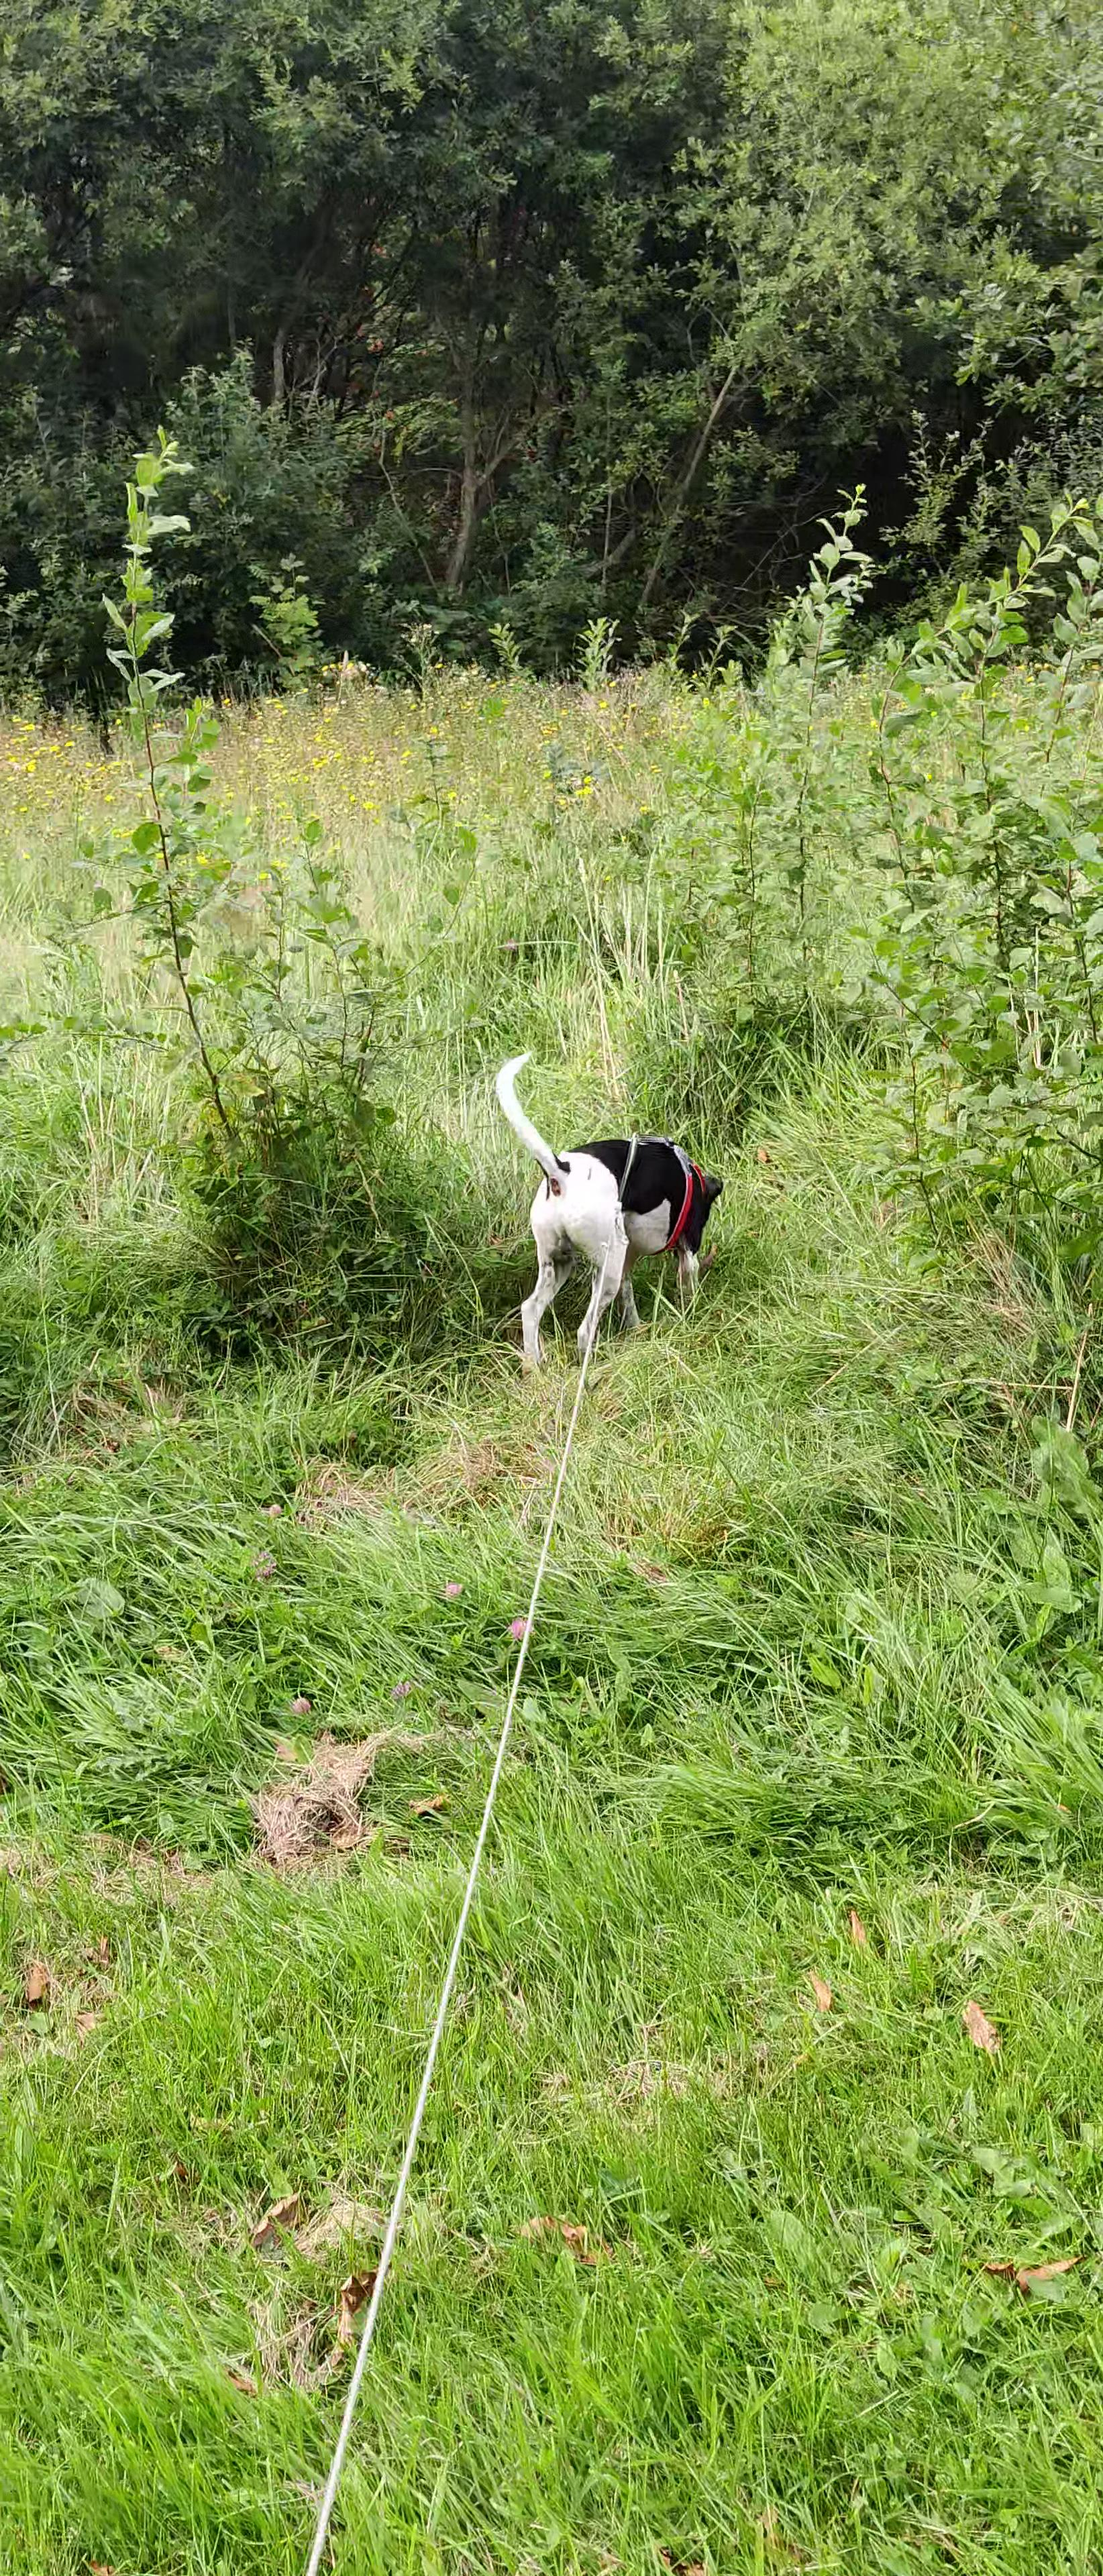Dog: (468, 1045, 759, 1385)
